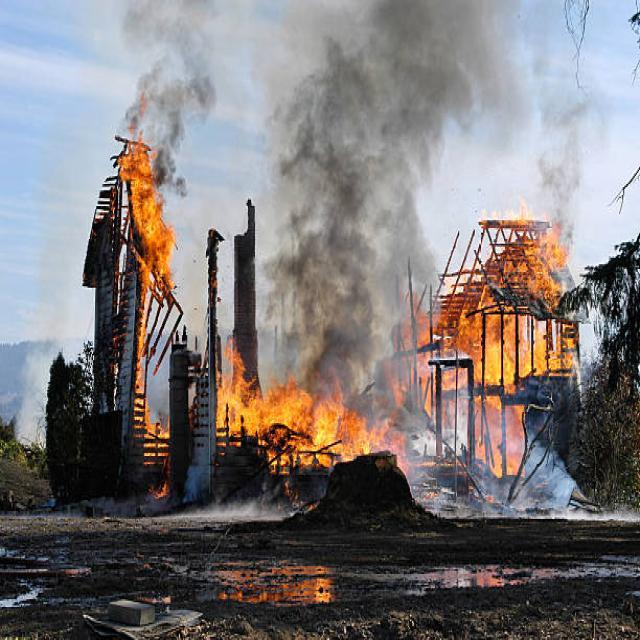Fire: (396, 208, 602, 449), (214, 327, 372, 484), (115, 103, 180, 341), (120, 358, 162, 462)
Smoke: (250, 0, 500, 366)
